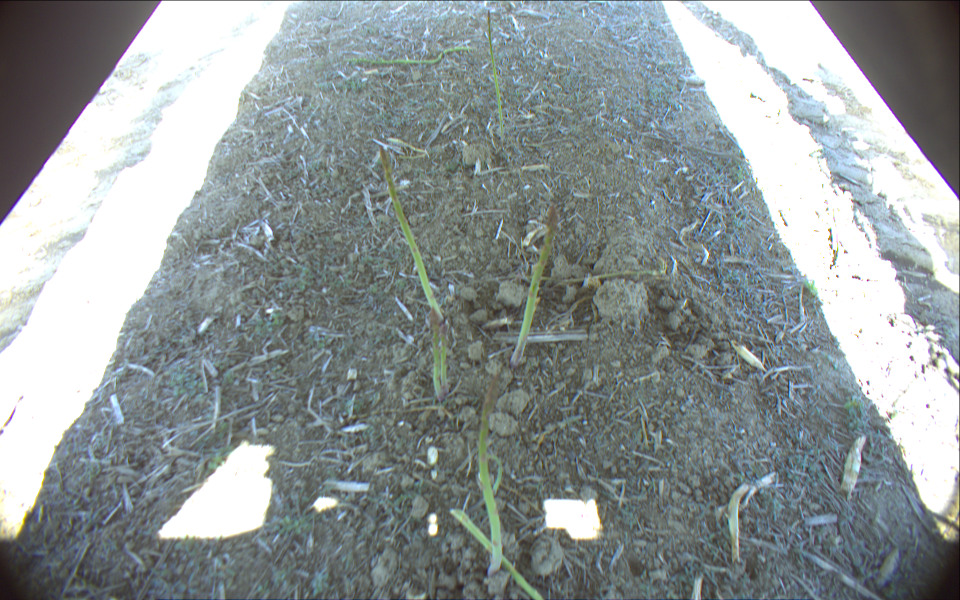aspa: (373, 144, 444, 324), (508, 203, 558, 367), (475, 374, 509, 577), (485, 9, 507, 139), (427, 308, 444, 403)
